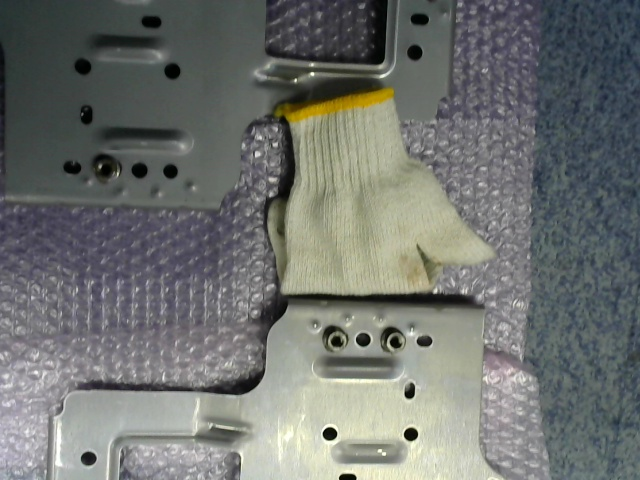dog: (92, 153, 121, 184), (322, 324, 350, 352), (380, 326, 405, 353)
